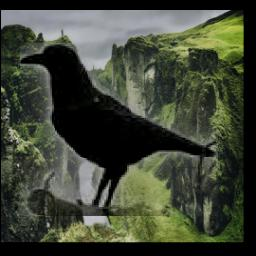Crow: (19, 44, 217, 217)
